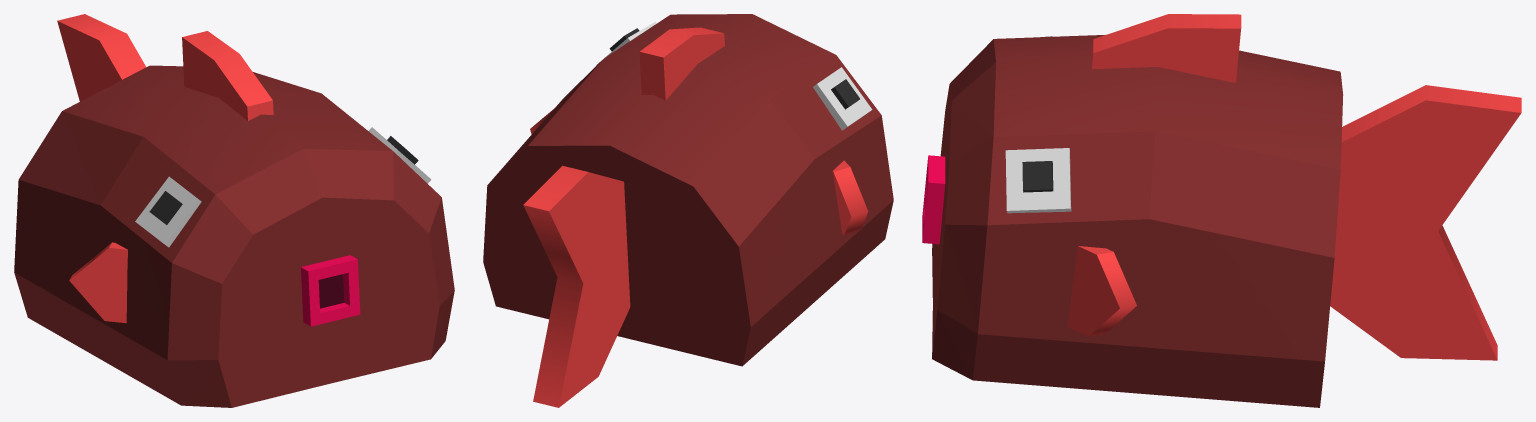
The model's file is Hat 08.FBX.
3 renders of one model, left to right at view 1: azimuth 30°, elevation 25°; view 2: azimuth 150°, elevation 25°; view 3: azimuth 270°, elevation 25°, orthographic. The views are drawn at different scales.
Parts seen in each view (by area): view 1: Hat 08; view 2: Hat 08; view 3: Hat 08.
Boxes of the visible parts, x1,y1,x2,y2 form: Hat 08: (14,14,454,407); Hat 08: (483,14,893,407); Hat 08: (922,14,1521,407).
Size of the model in its own units: 78.58 by 60.65 by 99.22.
